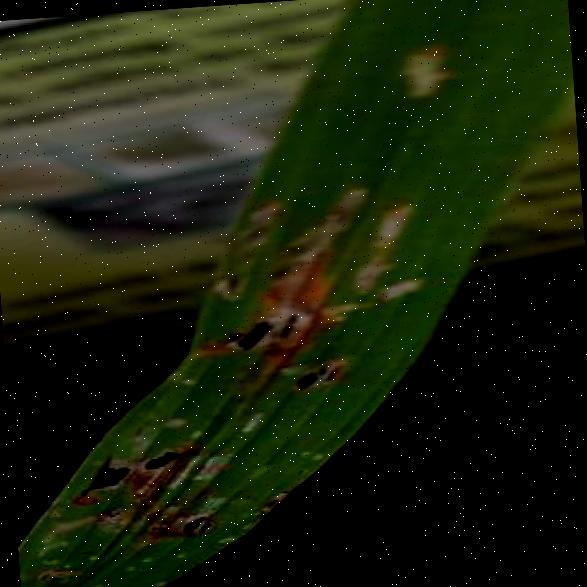Leaf_smut: (64, 416, 206, 517), (192, 181, 302, 308), (115, 484, 259, 566), (210, 296, 343, 370), (269, 334, 362, 408)
